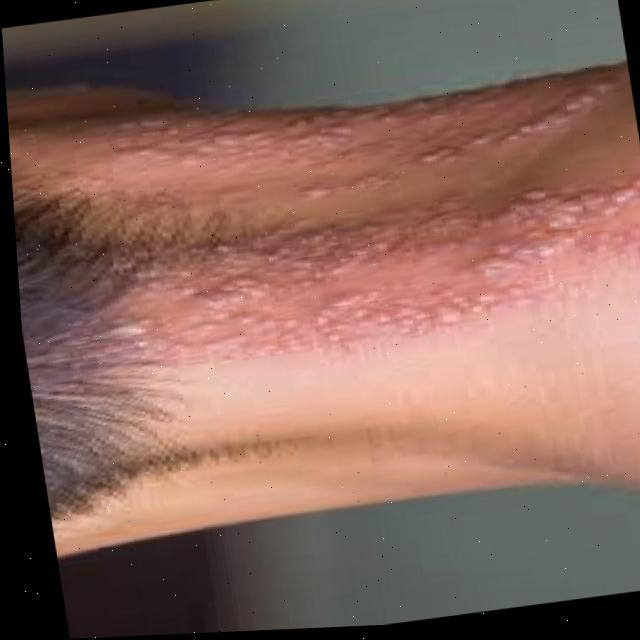Shingles: (108, 177, 640, 360), (75, 70, 585, 183)
